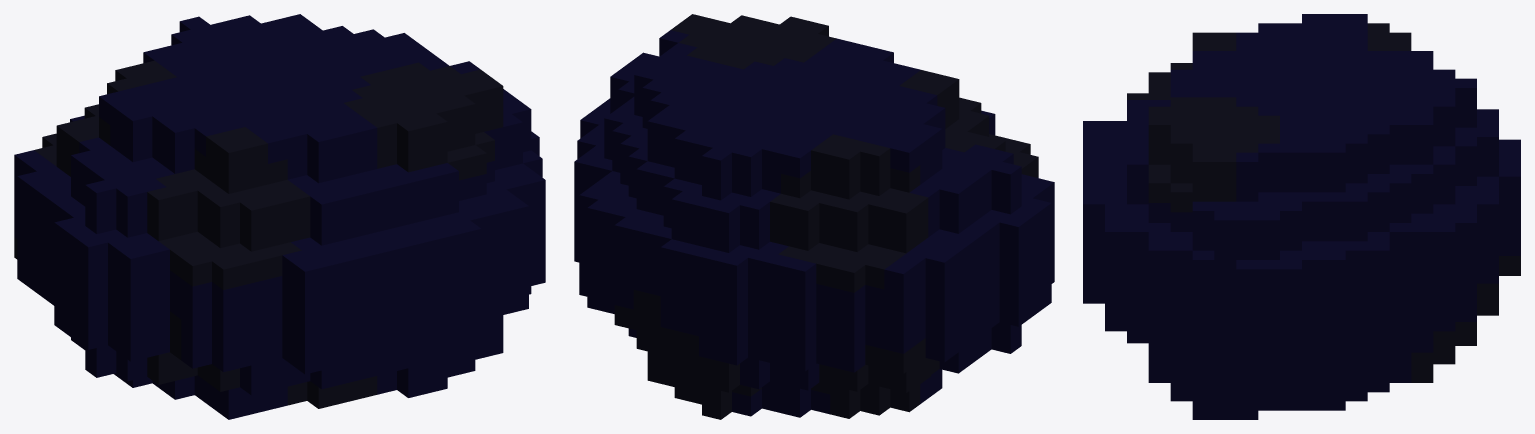
Rendered from Menu-2.obj.
3 views of the same model, side by side, from view 1: azimuth 30°, elevation 25°; view 2: azimuth 150°, elevation 25°; view 3: azimuth 270°, elevation 25° (orthographic). The views are drawn at different scales.
Bounding box in the file's own units: 2.3 × 1.3 × 2.
1 material, 1 textured.
